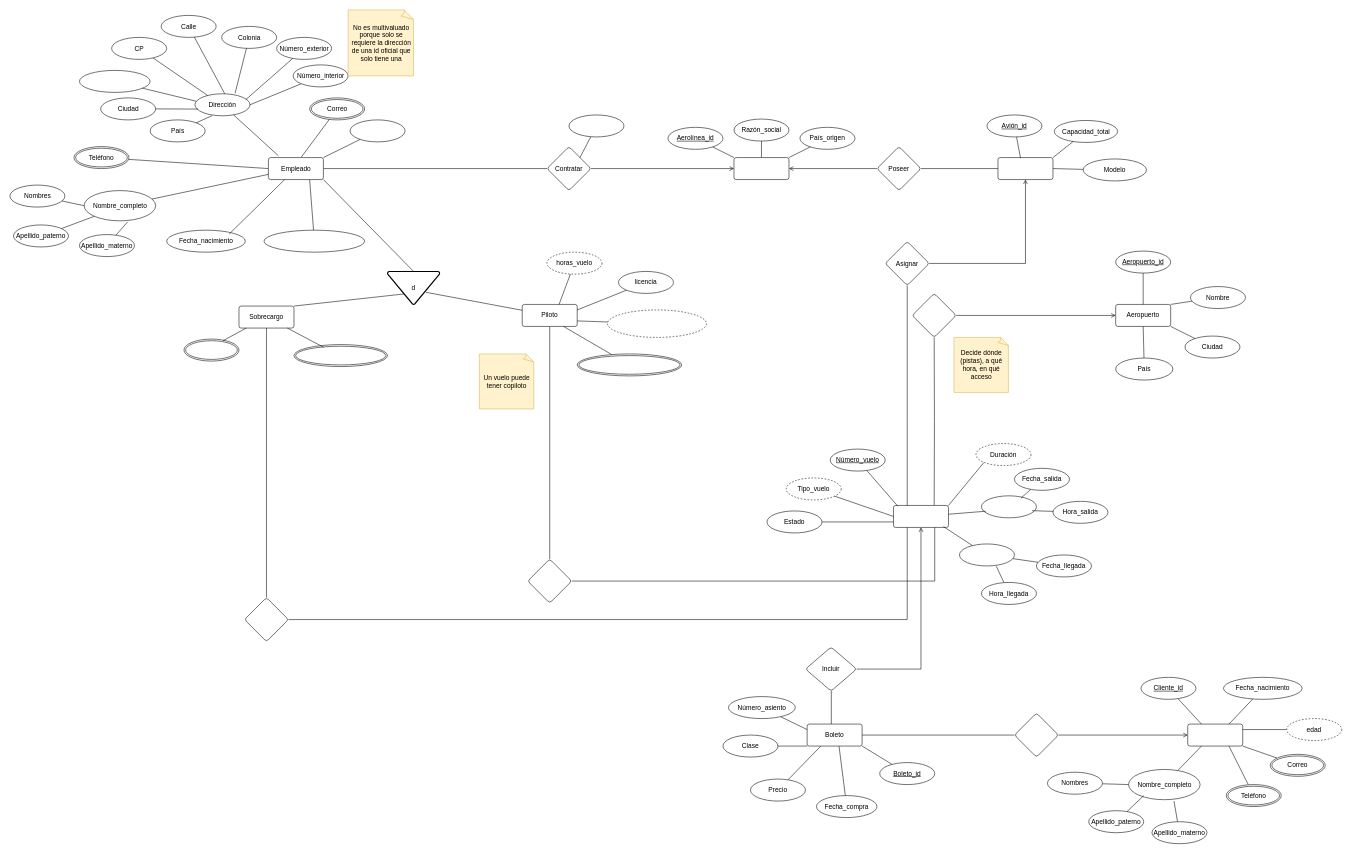
This 1351x853 diagram has some shape labels left out. Each missing label, with the centre of its shape:
Administrar: point (934, 315)
Aerolínea: point (761, 168)
Atender: point (266, 619)
Avión: point (1025, 168)
certficaciones_seguridad: point (340, 355)
certificacion_tipo_aeronave: point (629, 364)
Cliente: point (1215, 735)
Comprar: point (1036, 735)
Delegación/Municipio: point (114, 81)
Empleado_id: point (377, 130)
Fecha_ingreso: point (596, 125)
fecha_vencimiento_licencia: point (656, 323)
Identificón_único_población: point (314, 241)
idiomas: point (211, 350)
Pilotar: point (549, 581)
Tiempo_llegada: point (986, 554)
Tiempo_salida: point (1008, 506)
Vuelo: point (920, 516)
